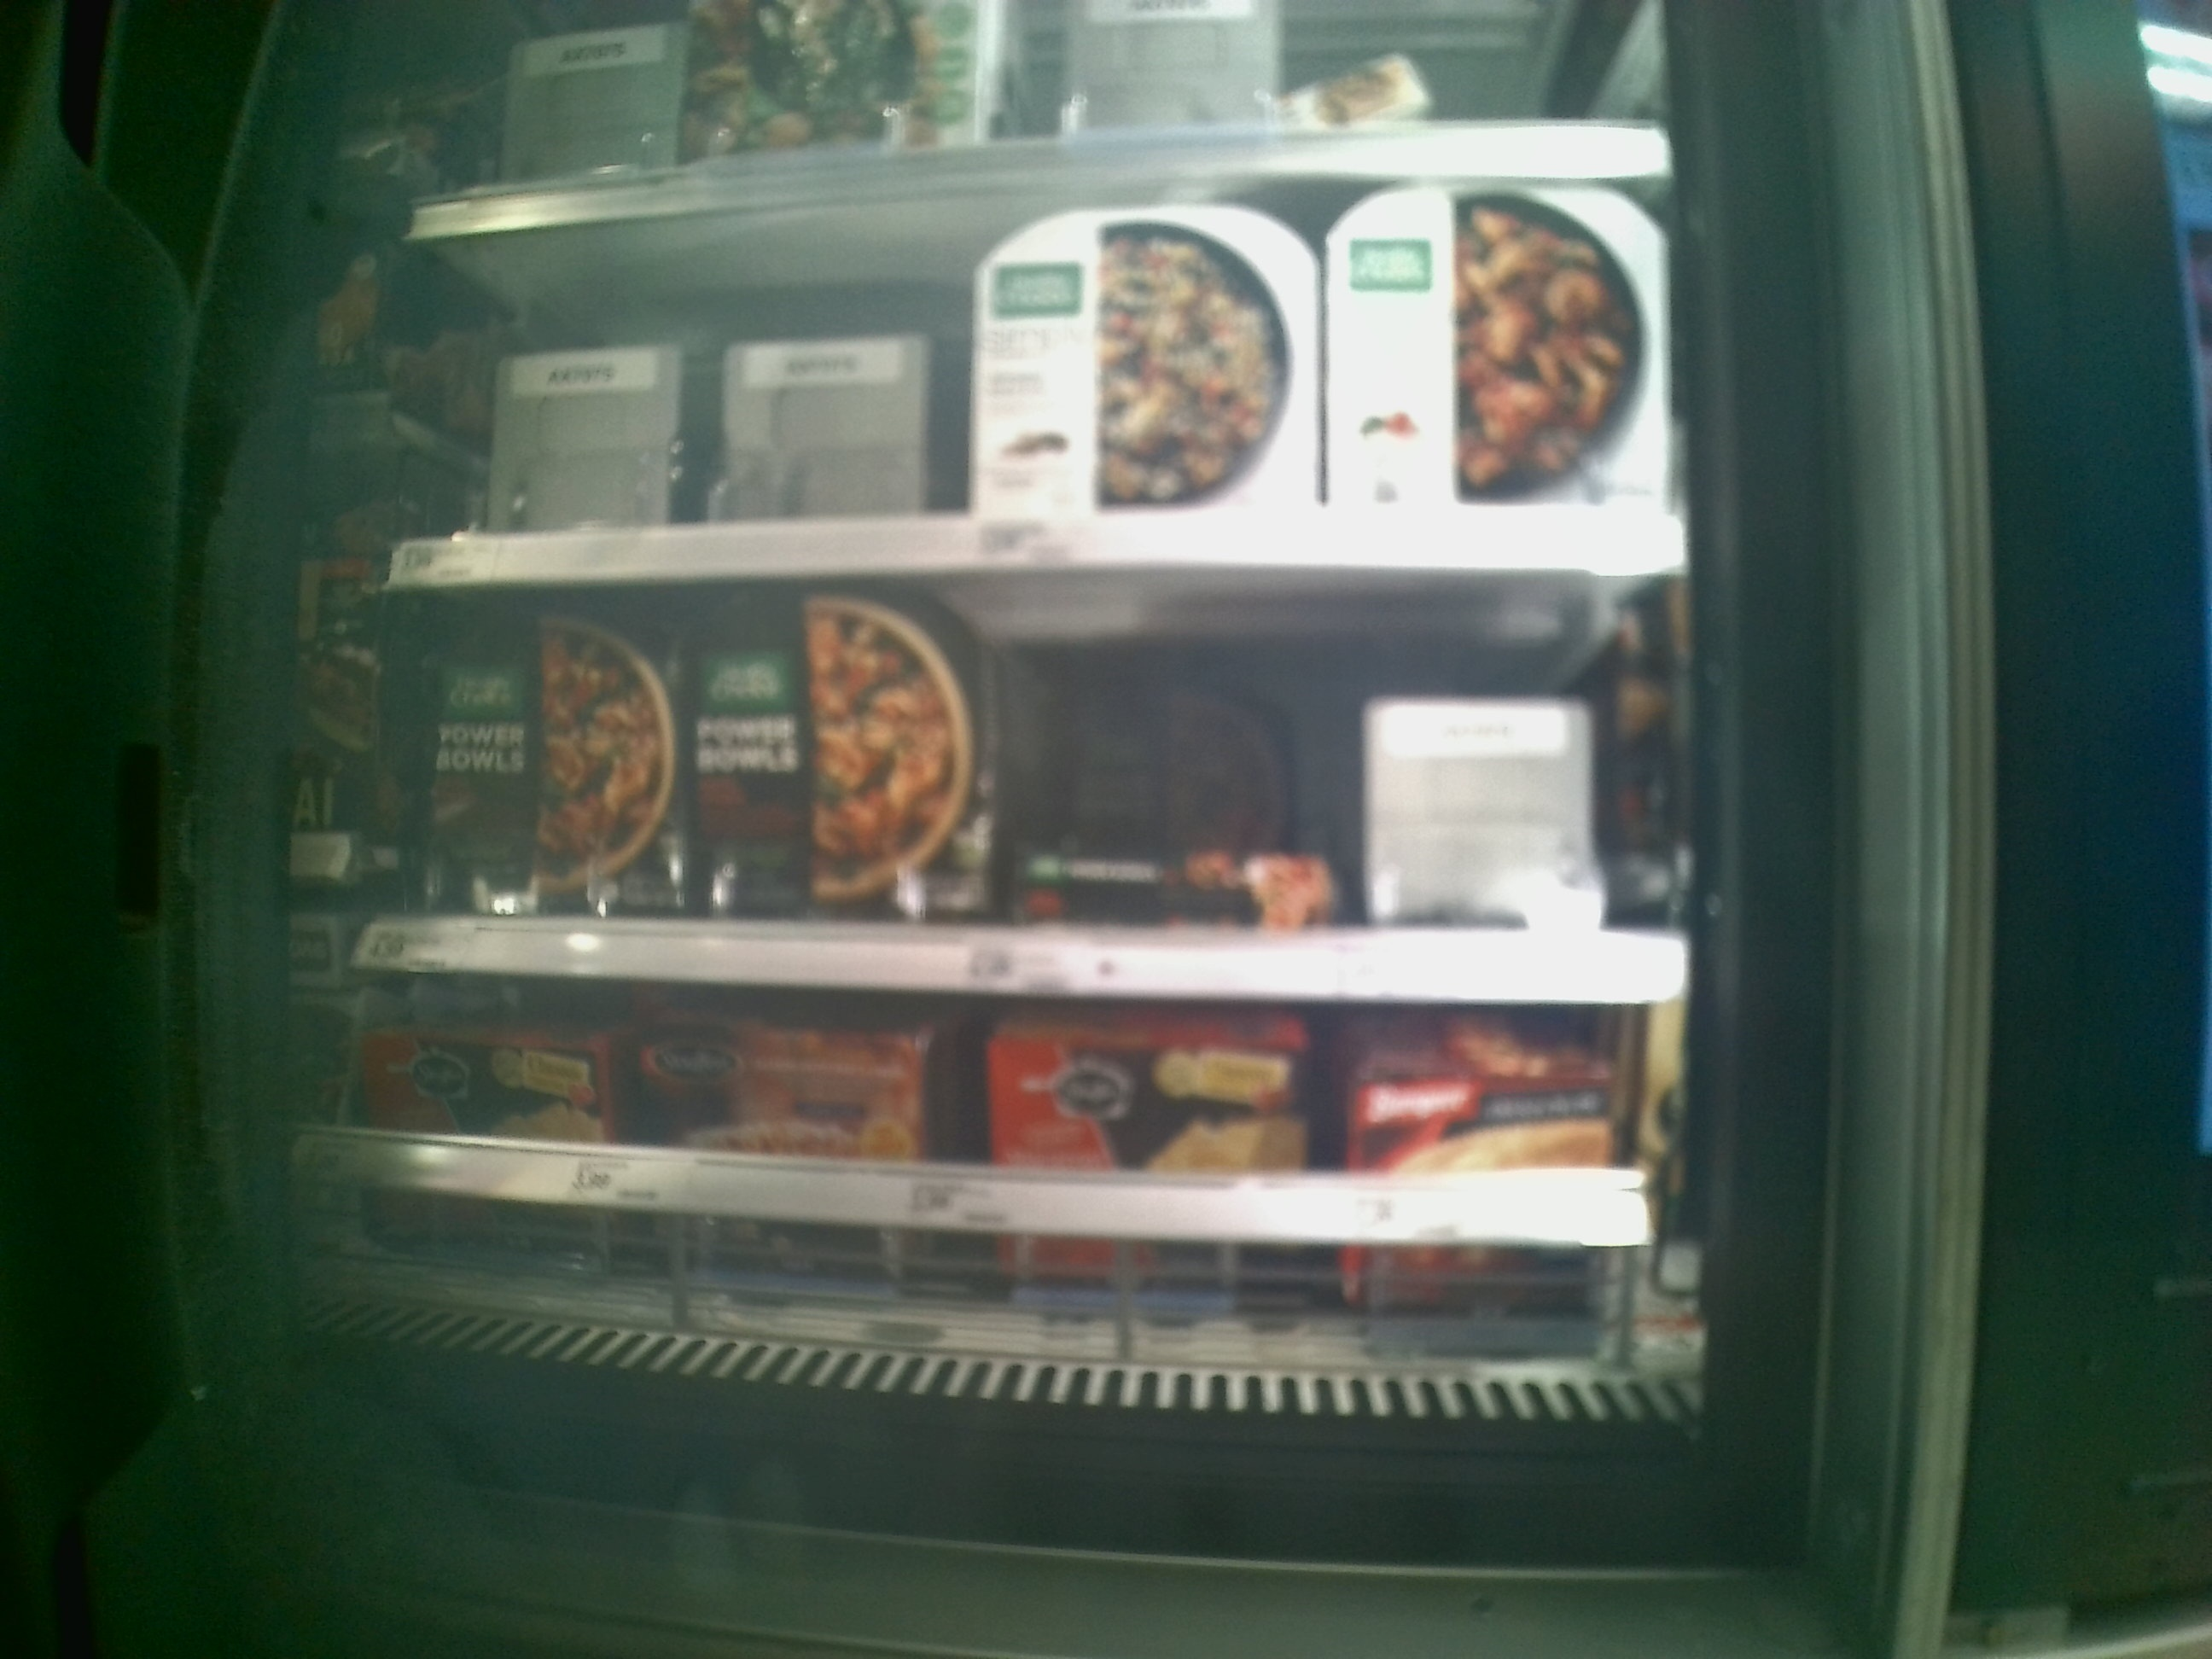shelf: (348, 974, 1719, 1401), (371, 582, 1695, 1007), (388, 174, 1684, 580)
